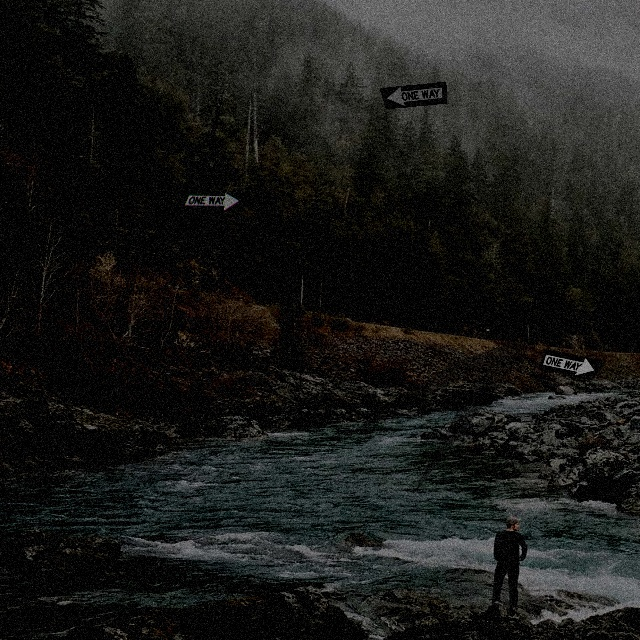ONE_WAY_ left: (379, 81, 447, 109)
ONE_WAY_ right: (538, 348, 606, 380), (177, 191, 245, 212)
